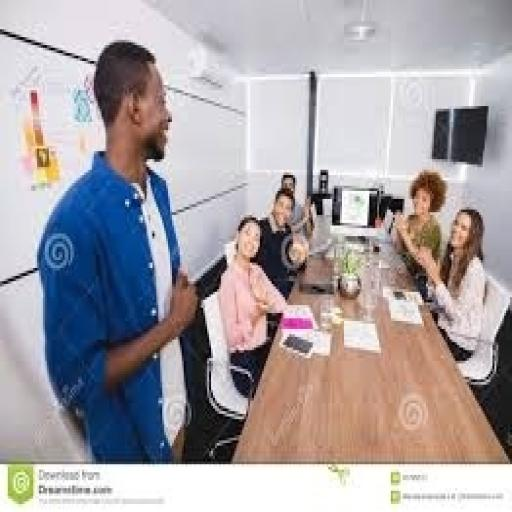clapping: (215, 212, 289, 396), (414, 204, 487, 364), (387, 167, 447, 281), (254, 186, 309, 305), (276, 170, 314, 241)
